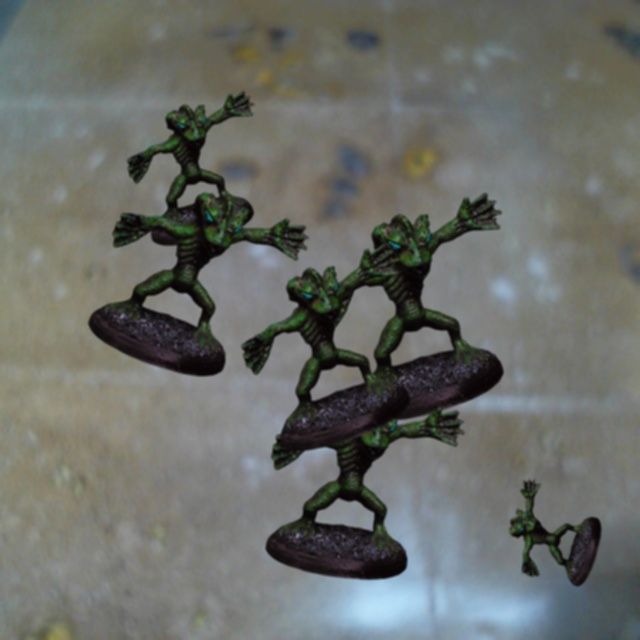pieza_juego: (316, 193, 503, 421), (88, 192, 308, 376), (265, 396, 464, 579), (241, 244, 409, 450), (127, 91, 254, 245), (509, 479, 601, 586)
